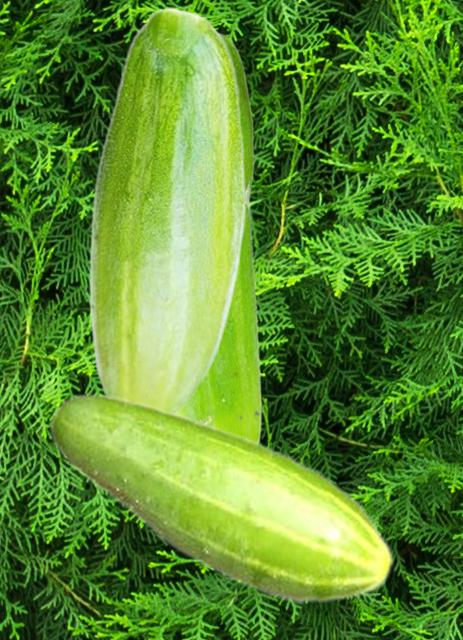cucumber: (49, 392, 394, 605), (88, 7, 245, 412), (179, 30, 261, 441)
